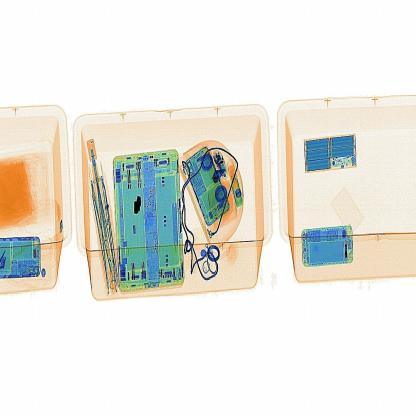knife: (130, 191, 154, 221)
